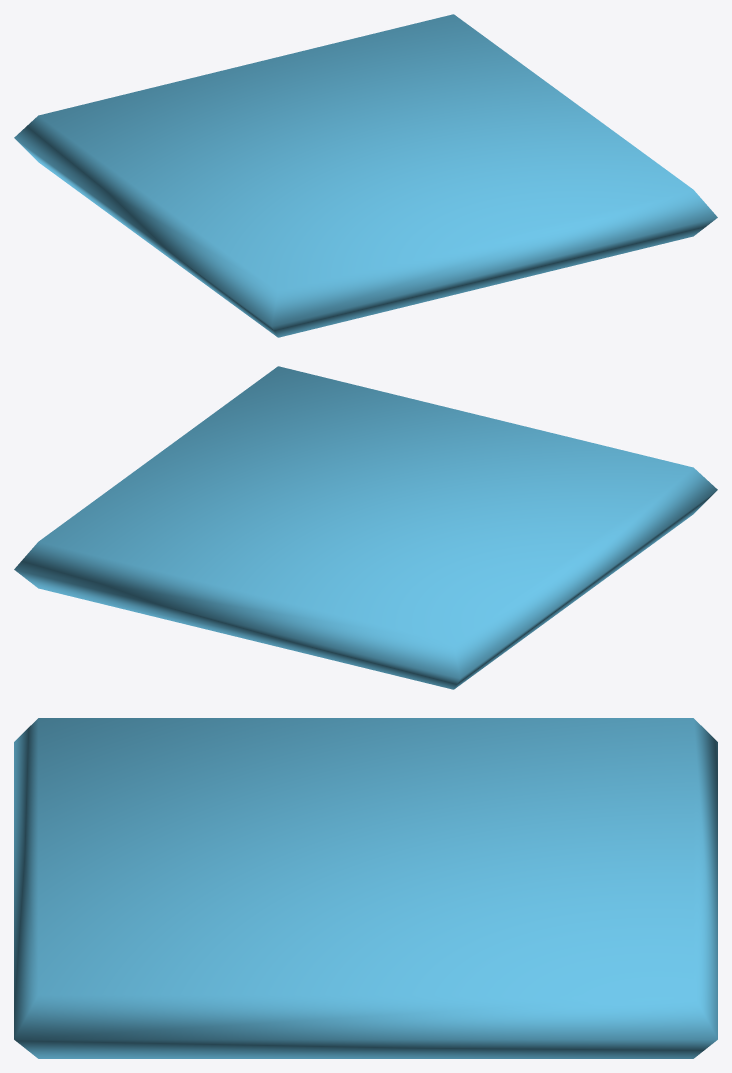
Rendered from piadina_leggera_max.fbx.
The picture shows the model from 3 angles, top to bottom: view 1: azimuth 30°, elevation 25°; view 2: azimuth 150°, elevation 25°; view 3: azimuth 270°, elevation 25°; orthographic projection. The views are drawn at different scales.
Parts seen in each view (by area): view 1: leggeraMax; view 2: leggeraMax; view 3: leggeraMax.
Part boxes in pixels (box(x1,y1,x2,y2)): leggeraMax: box(14, 14, 717, 337); leggeraMax: box(14, 366, 717, 689); leggeraMax: box(14, 718, 717, 1058).
Bounding box in the file's own units: 215 × 21.5 × 215.
